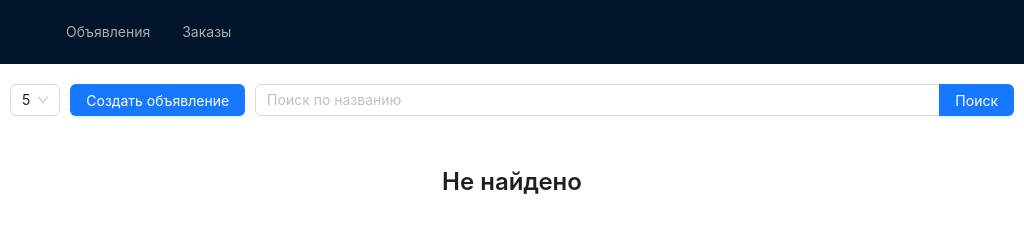
Test case: Router test › Correct links
The image size is (1024, 225).
Click the link with test id "ads-link" at (108, 32), box [66,23,150,40]
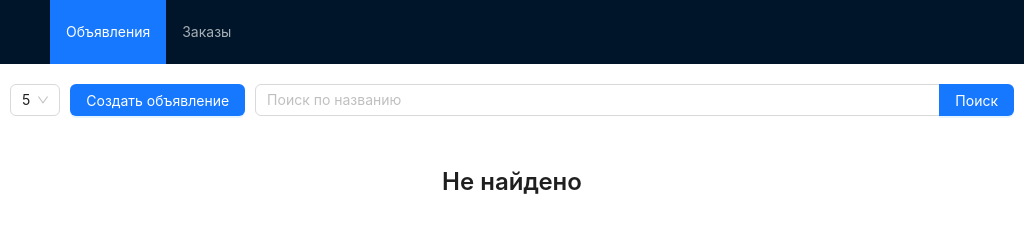
Check: the element with test id "ads-page" is shown, box [0,84,1023,198]
Click the link with test id "orders-link" at (207, 32), box [182,23,231,40]
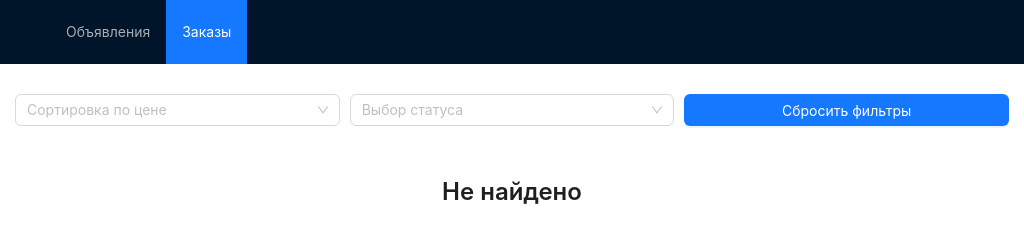
Check: the element with test id "orders-page" is shown, box [0,94,1023,208]
